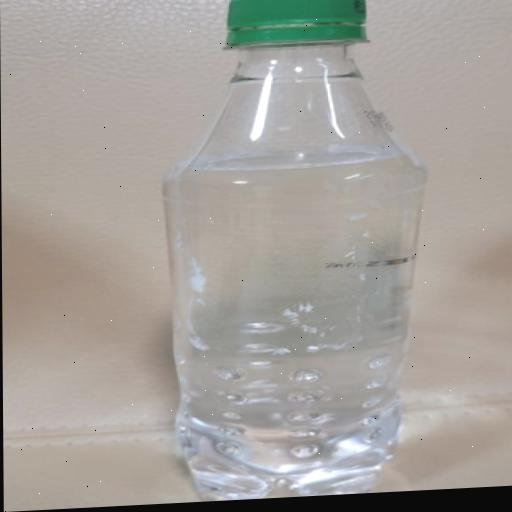bottle: (120, 0, 444, 506)
